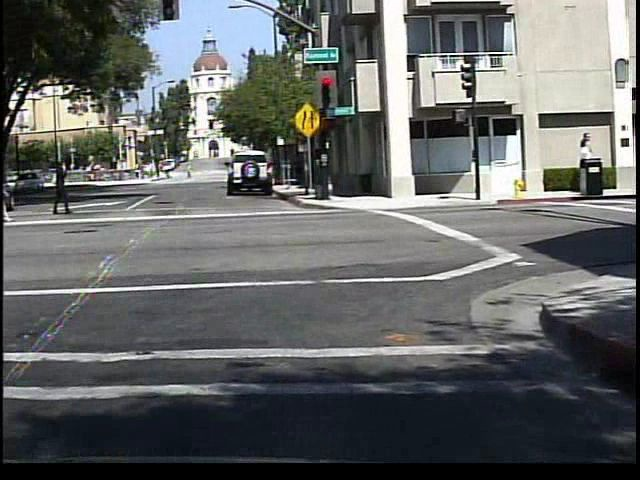person: (44, 155, 75, 218), (2, 167, 30, 230), (181, 161, 192, 181), (160, 165, 170, 181)
